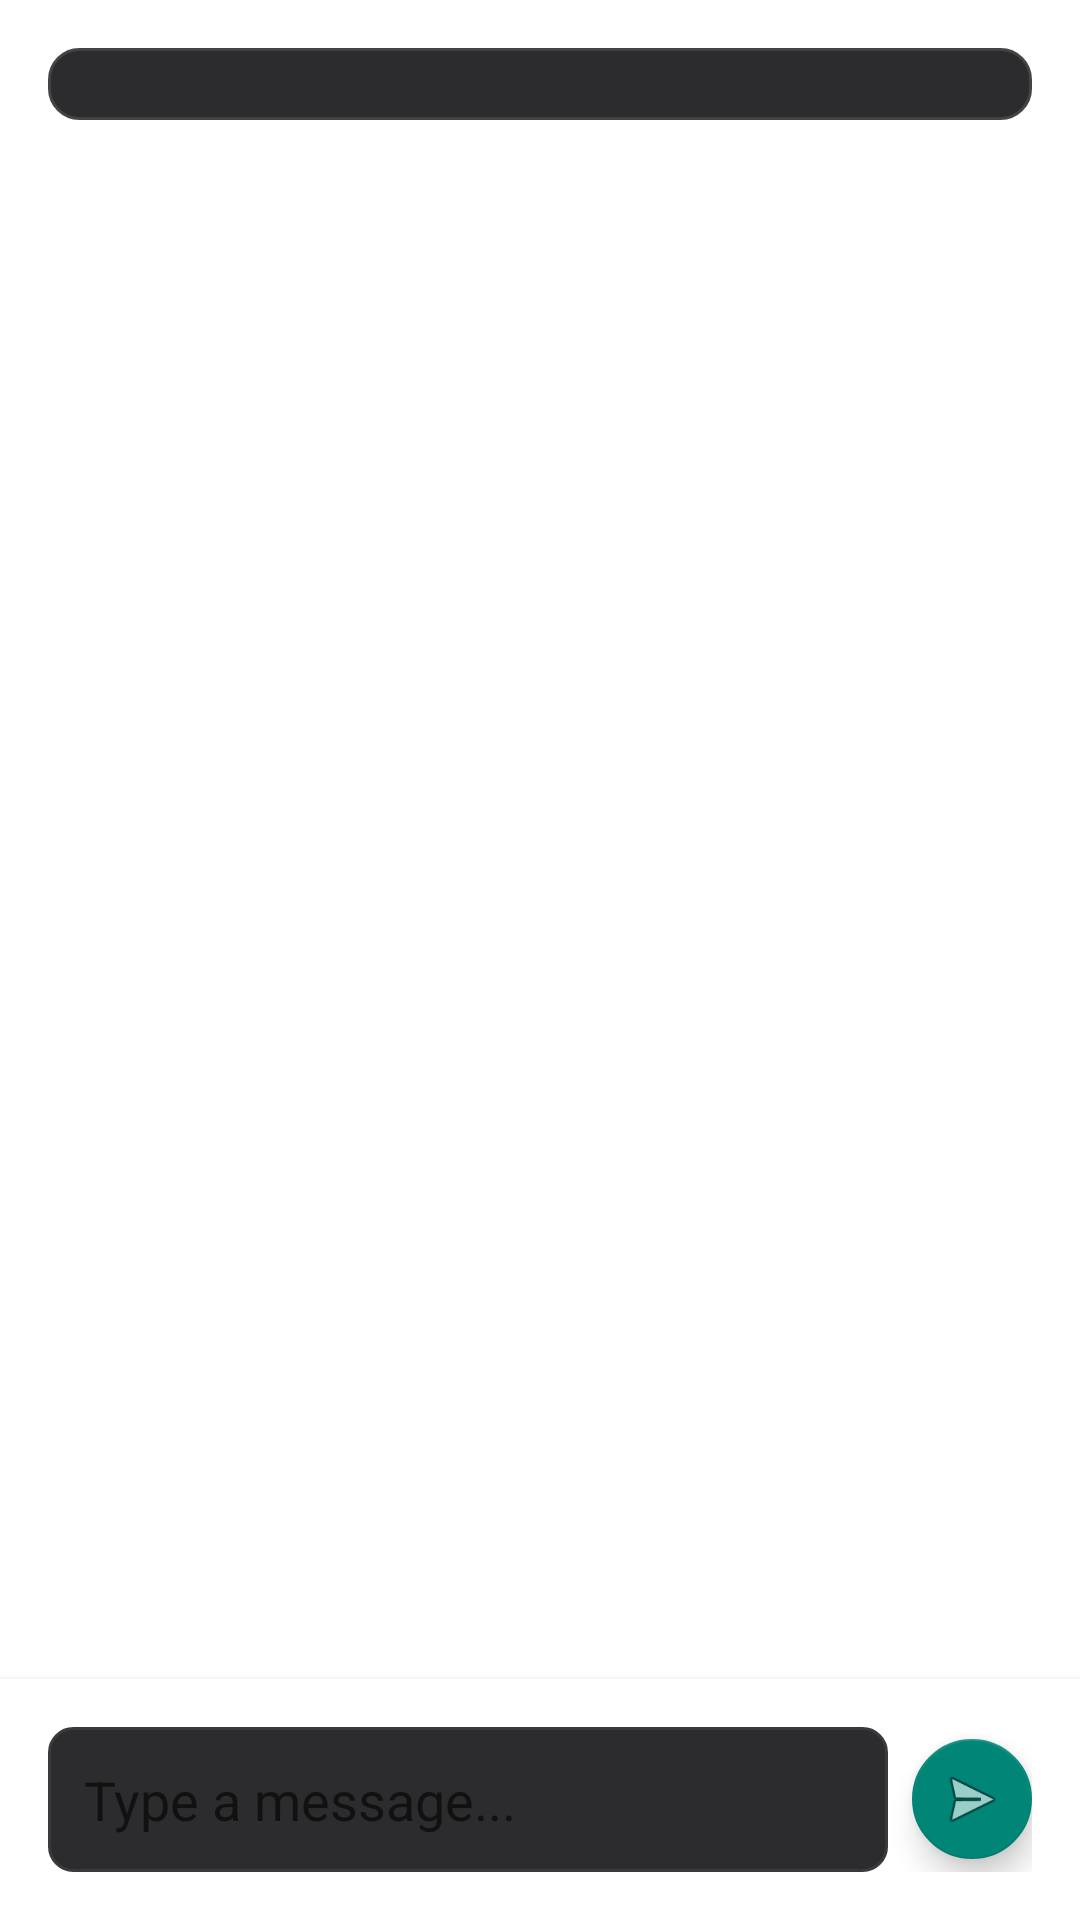

Locate icon controls on the screen. Image size 1080px×1920px, boxes as detection(x1, y1, x2, y2).
Send message: detection(912, 1739, 1032, 1859)
